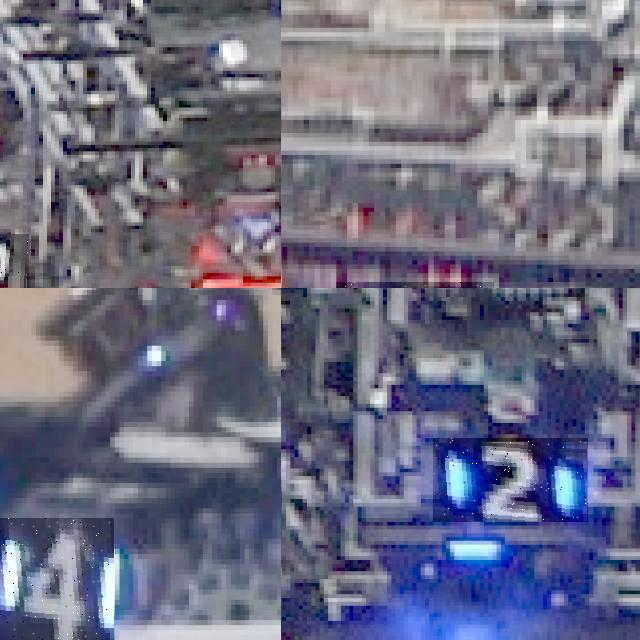B2: (434, 438, 590, 522)
B4: (0, 518, 114, 640)
R2: (0, 233, 29, 288)
